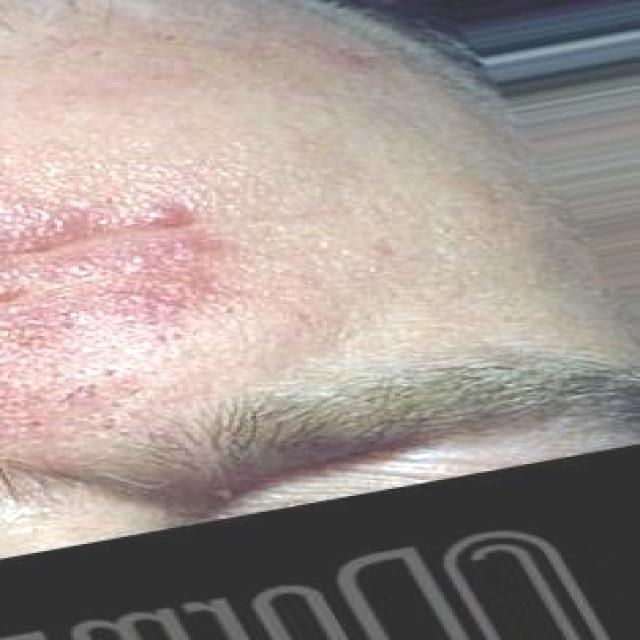Rosacea: (0, 185, 237, 424)
